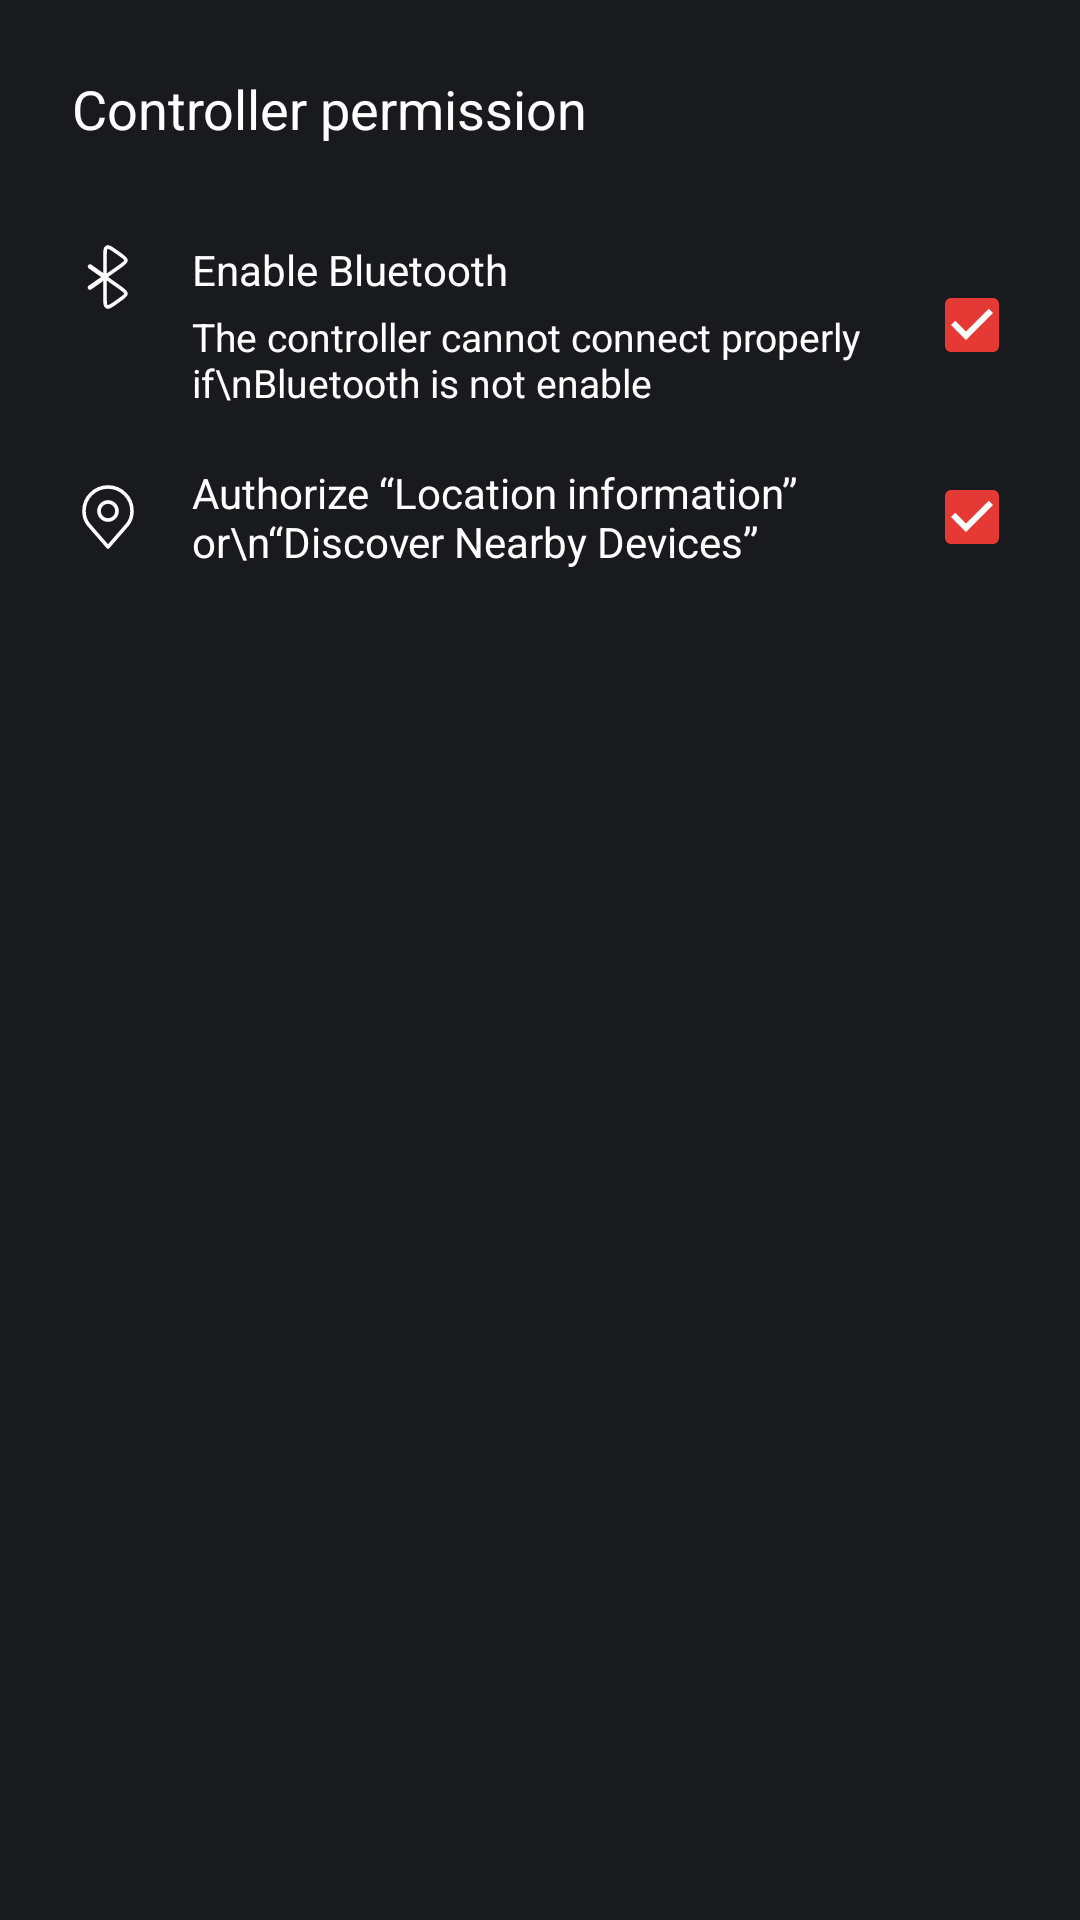

Named icons in this screenshot (1080px×1920px) and their bounding boxes, [x1, y1, x2, y2]:
checkbox checked: [945, 298, 999, 352], [945, 490, 999, 544]
